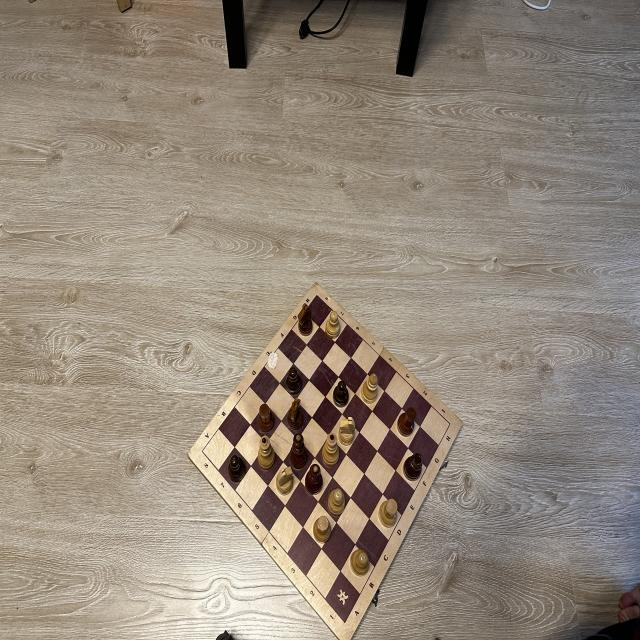chess-table-corners: (342, 620, 348, 626), (314, 292, 320, 298), (200, 448, 204, 454), (448, 422, 452, 426)
